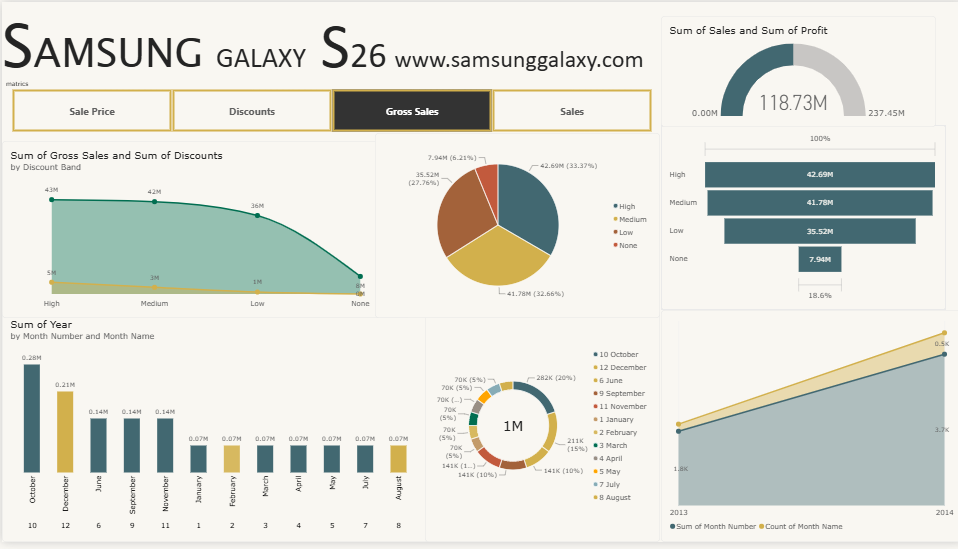

What the dashboard file says about the page in this screenshot:
{"tool":"powerbi","page":{"name":"Page 2","canvas":[1920,1080],"ordinal":1},"visuals":[{"type":"textbox","box":[10,0,280,280],"z":0},{"type":"clusteredColumnChart","fields":{"Category":["financials.Month Number","financials.Month Name"],"Y":["Sum(financials.Year)"]},"box":[0,616,854,464],"z":1000},{"type":"areaChart","fields":{"Category":["financials.Discount Band"],"Y":["Sum(financials.Gross Sales)","Sum(financials.Discounts)"]},"box":[0,278,816,354],"z":2000},{"type":"donutChart","fields":{"Category":["financials.Month Number","financials.Month Name"],"Y":["Sum(financials.Year)"]},"box":[846,616,470,464],"z":3000},{"type":"pieChart","fields":{"Category":["financials.Discount Band"],"Y":["Sum(financials.Gross Sales)"]},"box":[746,262,570,370],"z":4000},{"type":"slicer","fields":{"Values":["matrics.matrics"]},"box":[0,156.7,1318.3,105],"z":5000},{"type":"stackedAreaChart","fields":{"Category":["financials.Year"],"Y":["Sum(financials.Month Number)","CountNonNull(financials.Month Name)"]},"box":[1318,616,602,464],"z":6000},{"type":"funnel","fields":{"Category":["financials.Discount Band"],"Y":["Sum(financials.Gross Sales)"]},"box":[1318,246,570,370],"z":7000},{"type":"gauge","fields":{"Y":["Sum(financials.Sales)"]},"box":[1318,28,550,222],"z":8000},{"type":"textbox","box":[0,0,1436,246],"z":9000}]}

Visuals, with their boxes in screenshot pixels (x1, y1, x2, y2), scaled from the page's 1920x1080 canvas onto the 958x549 screenshot:
textbox: BBox(5, 0, 145, 142)
clusteredColumnChart - financials.Month Number x financials.Month Name: BBox(0, 313, 426, 548)
areaChart - financials.Discount Band x Sum(financials.Gross Sales): BBox(0, 141, 407, 321)
donutChart - financials.Month Number x financials.Month Name: BBox(422, 313, 657, 548)
pieChart - financials.Discount Band x Sum(financials.Gross Sales): BBox(372, 133, 657, 321)
slicer - matrics.matrics: BBox(0, 80, 658, 133)
stackedAreaChart - financials.Year x Sum(financials.Month Number): BBox(658, 313, 957, 548)
funnel - financials.Discount Band x Sum(financials.Gross Sales): BBox(658, 125, 942, 313)
gauge - Sum(financials.Sales): BBox(658, 14, 932, 127)
textbox: BBox(0, 0, 717, 125)
